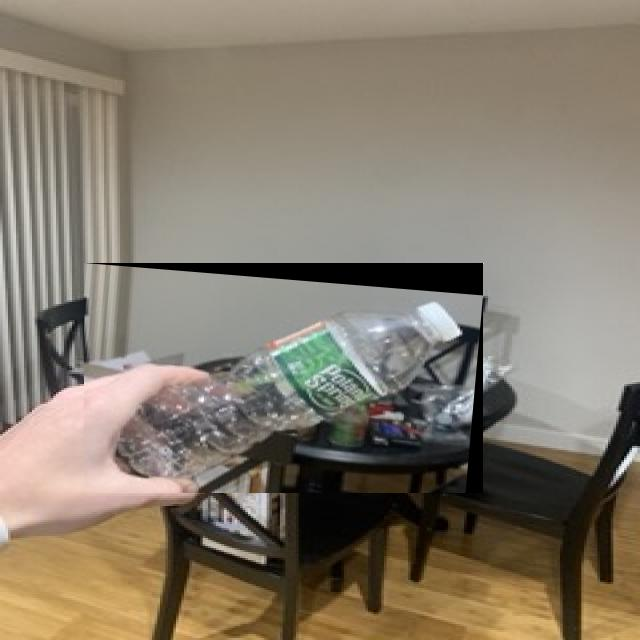water_bottle: (84, 286, 482, 493)
